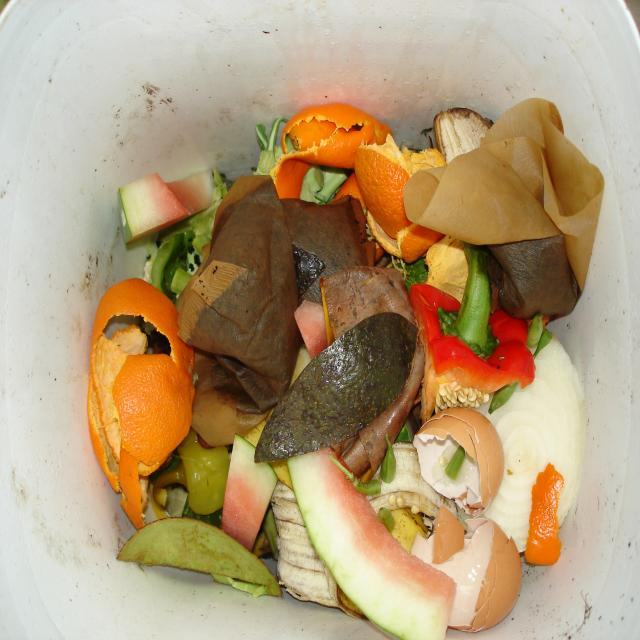garbage: (64, 82, 596, 640)
